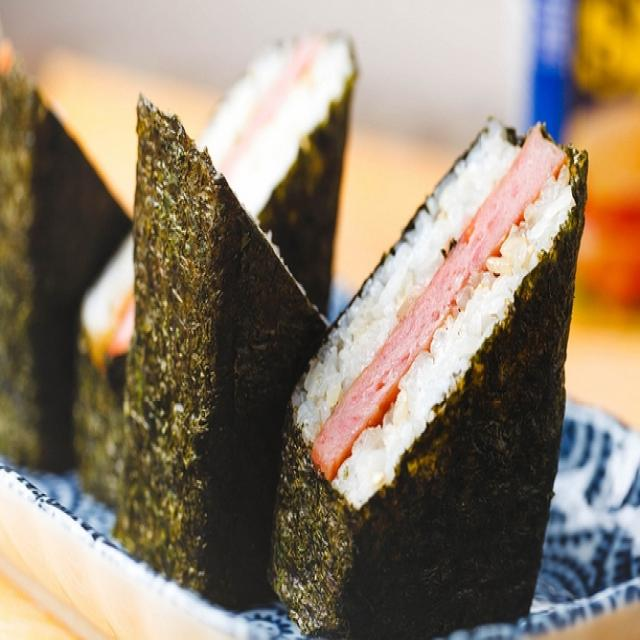寿司卷物: (11, 20, 614, 623)
